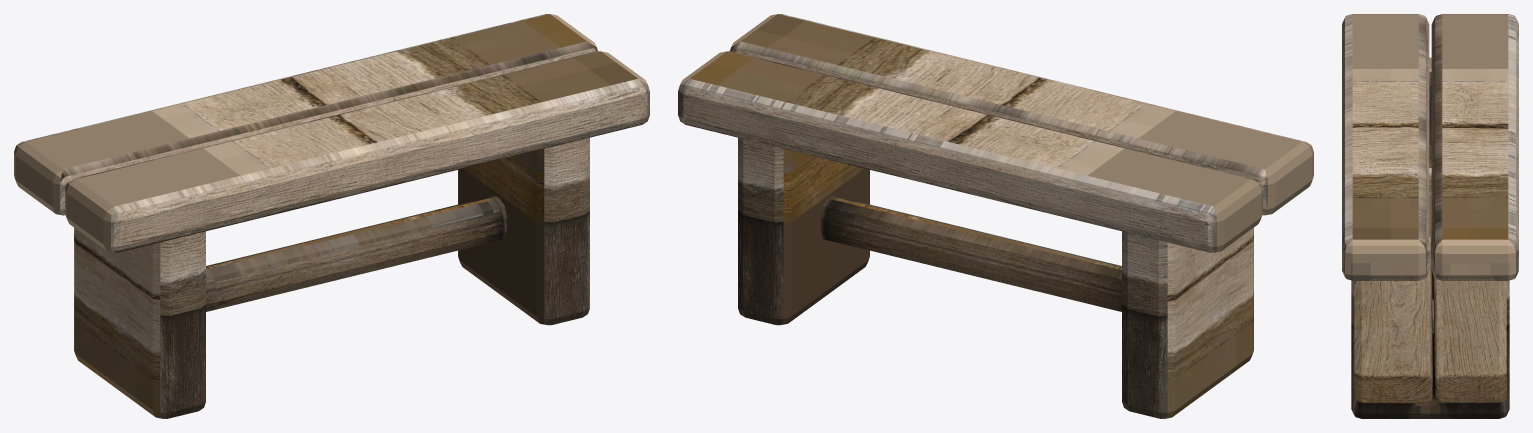
The model's file is kit_bench.glb.
The picture shows the model from 3 angles, left to right: view 1: azimuth 30°, elevation 25°; view 2: azimuth 150°, elevation 25°; view 3: azimuth 270°, elevation 25°; orthographic projection. The views are drawn at different scales.
Visible parts, largest first — view 1: Bench seat, Bench seat.001, Bench trestle, Bench trestle.001, Bench stretcher; view 2: Bench seat.001, Bench seat, Bench trestle, Bench trestle.001, Bench stretcher; view 3: Bench seat, Bench seat.001, Bench trestle.001, Bench trestle.
Boxes of the visible parts, x1,y1,x2,y2 form: Bench seat: [65, 51, 649, 252]; Bench seat.001: [14, 14, 597, 215]; Bench trestle: [74, 227, 205, 418]; Bench trestle.001: [458, 137, 589, 325]; Bench stretcher: [206, 196, 506, 311]; Bench seat.001: [678, 51, 1262, 252]; Bench seat: [730, 14, 1313, 215]; Bench trestle: [1122, 227, 1253, 418]; Bench trestle.001: [738, 137, 869, 325]; Bench stretcher: [821, 196, 1121, 311]; Bench seat: [1342, 14, 1429, 280]; Bench seat.001: [1431, 14, 1518, 280]; Bench trestle.001: [1351, 223, 1509, 418]; Bench trestle: [1429, 57, 1431, 167].
Size of the model in its own units: 1.05 by 0.4225 by 0.335.
Materials: 5 (5 with a texture image).
